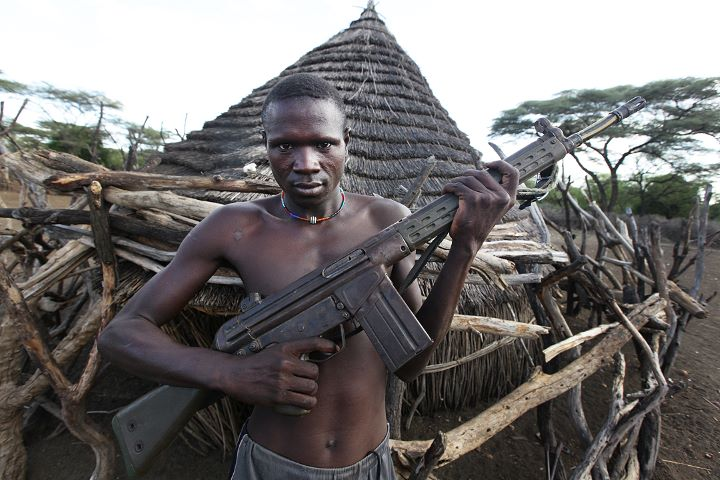rifle: (345, 103, 662, 326)
